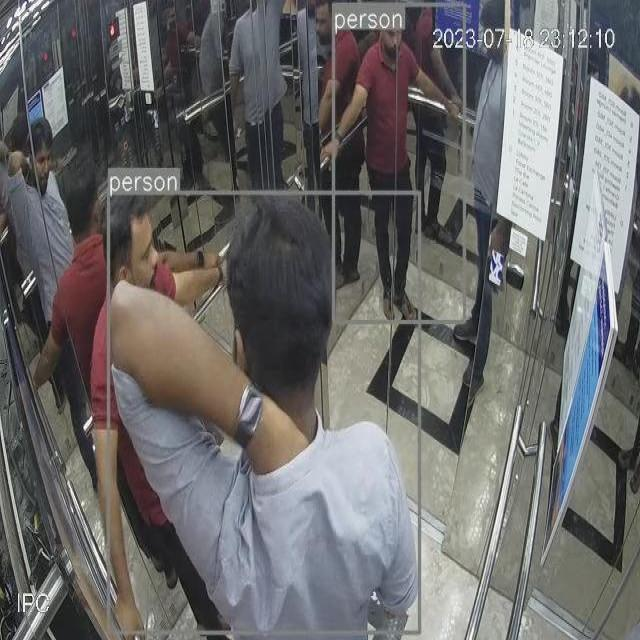person: (111, 192, 423, 628), (91, 192, 234, 640), (334, 8, 464, 324)
